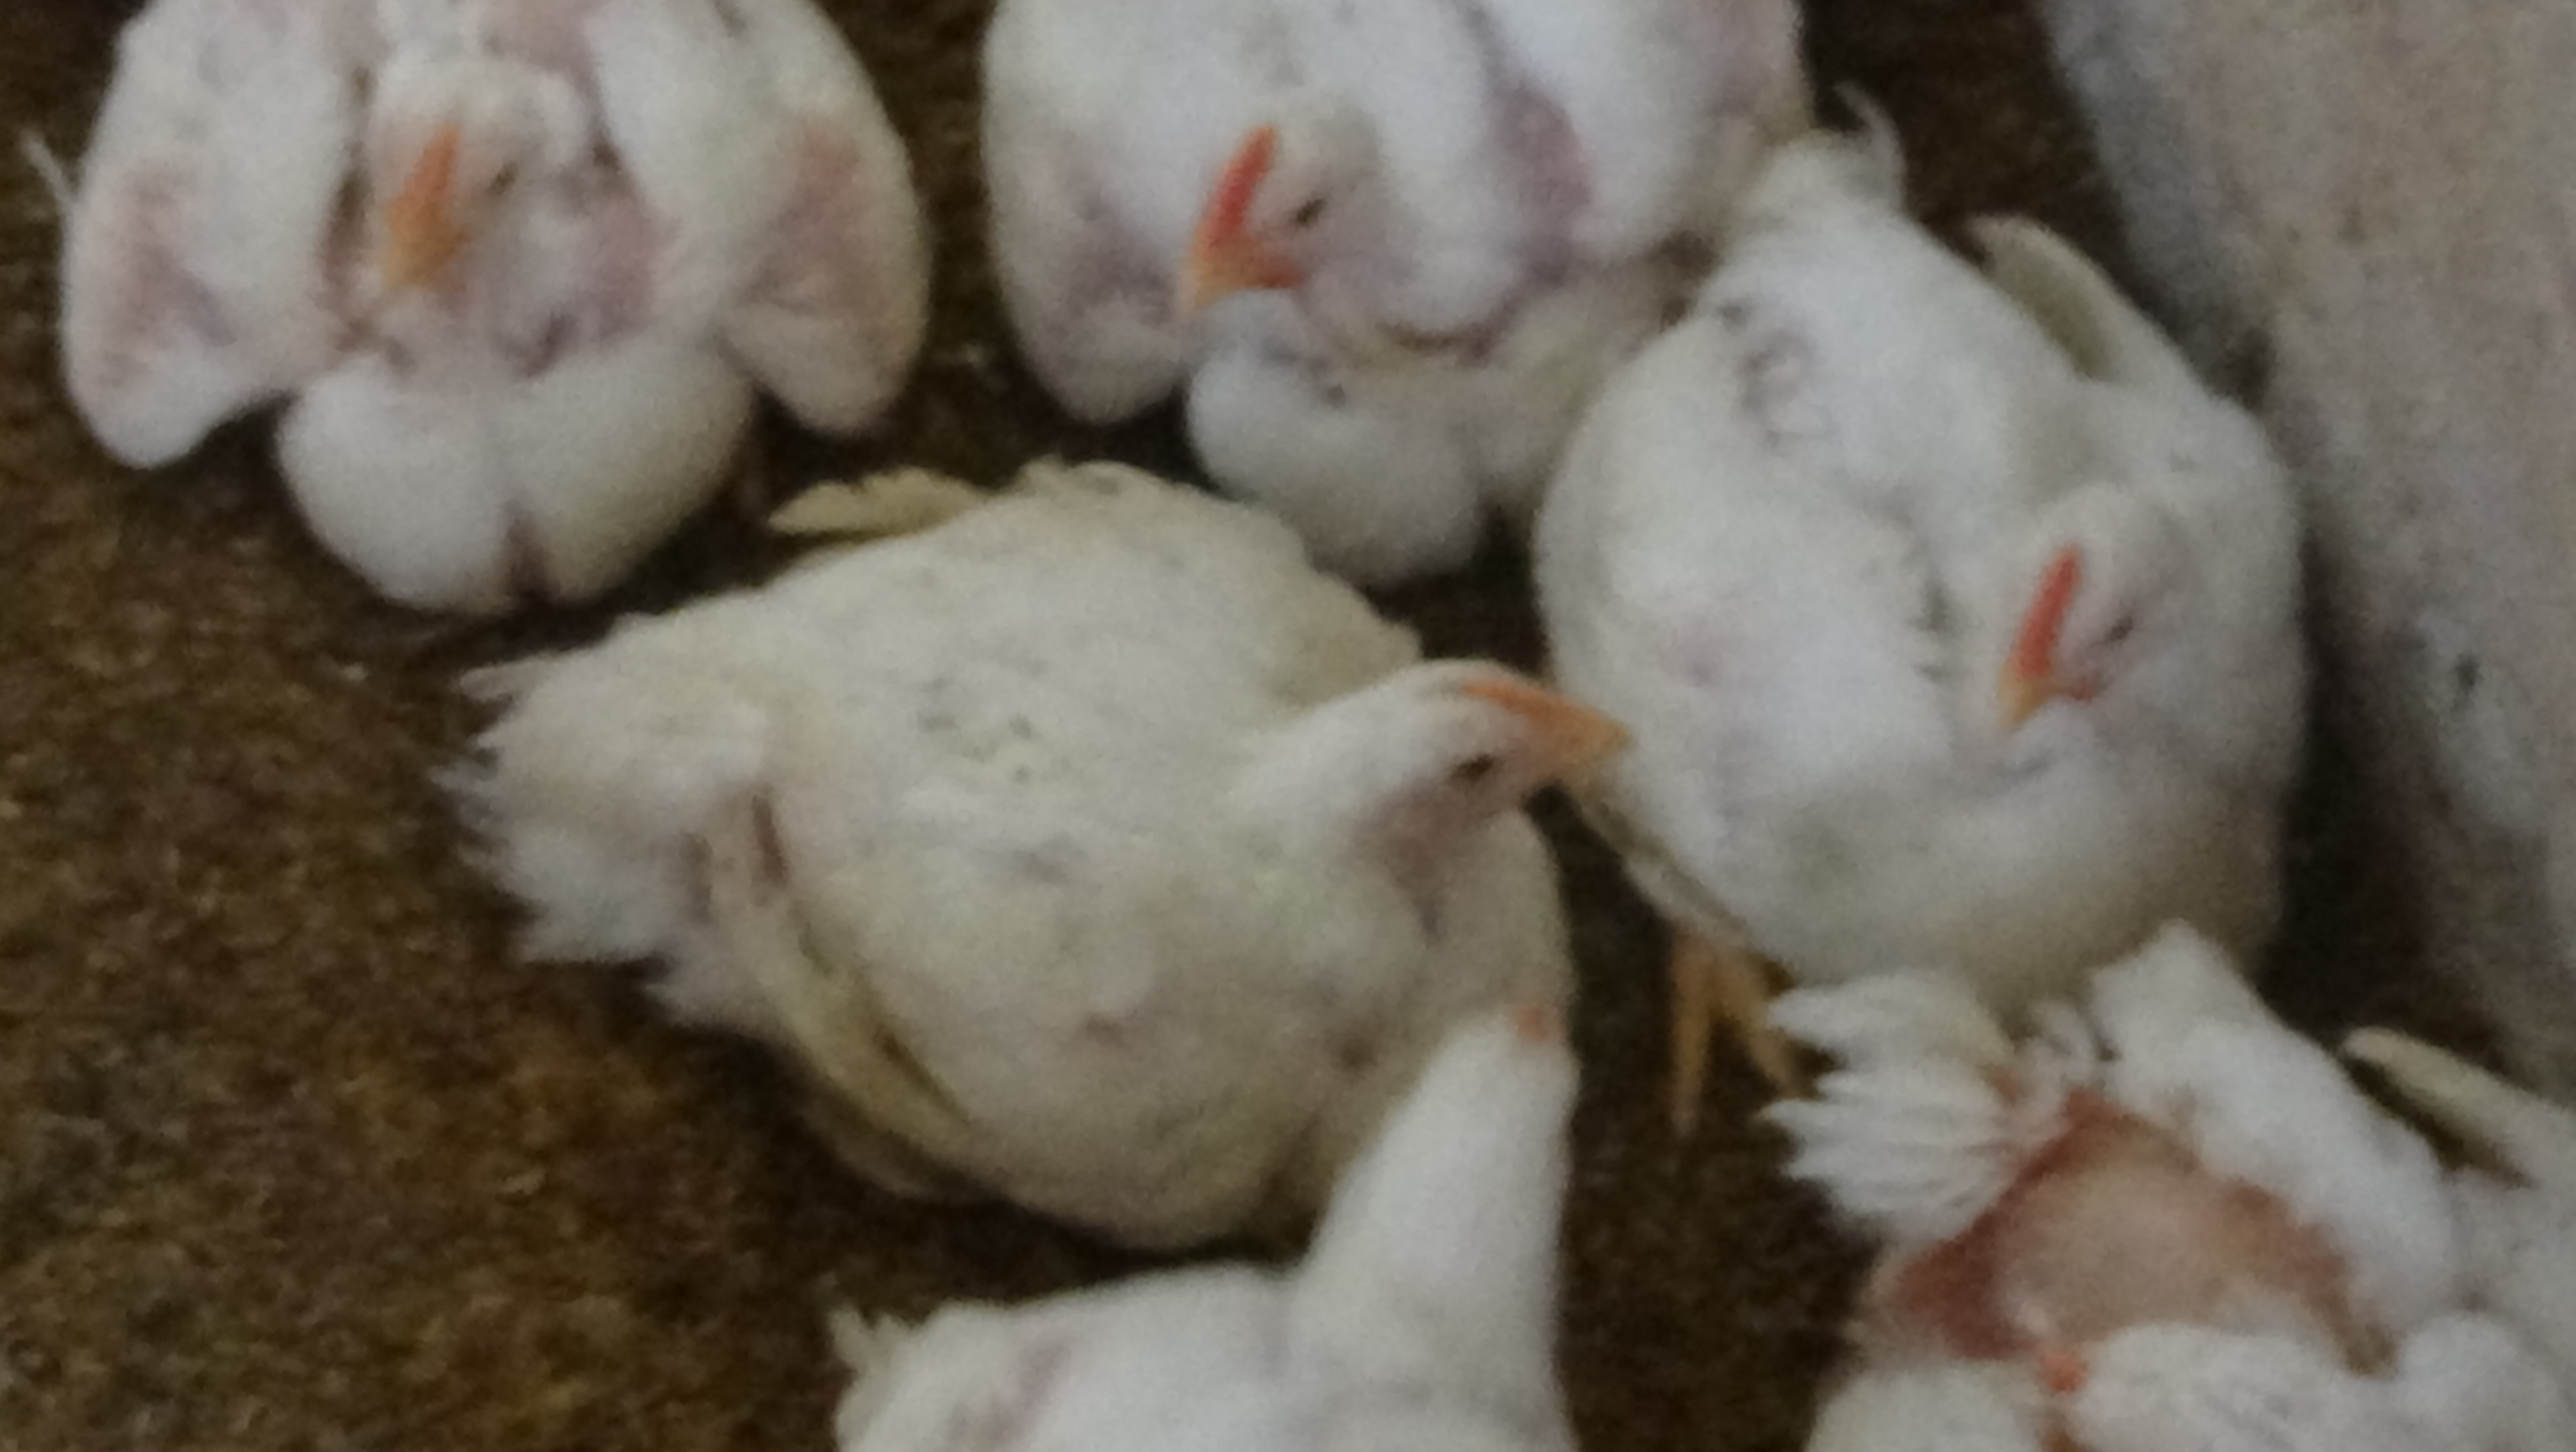Pollos: (393, 459, 1660, 1245), (1529, 57, 2371, 1163), (21, 0, 943, 634), (952, 0, 1854, 577), (648, 1018, 1748, 1452)
